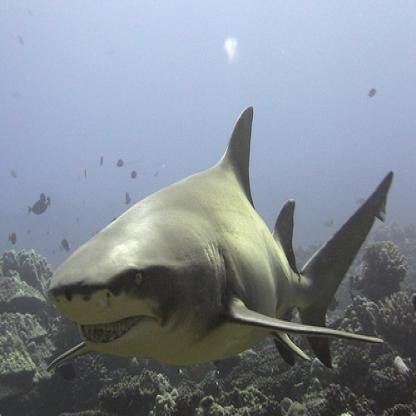shark: (46, 104, 394, 372)
